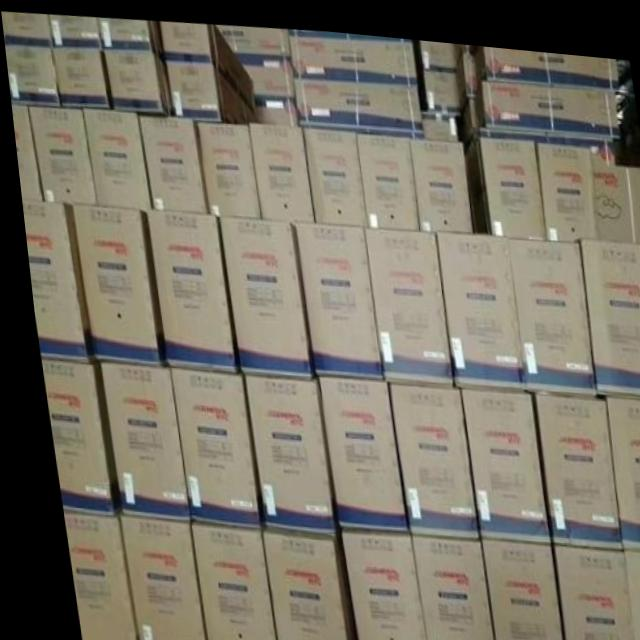box: (142, 206, 228, 369), (501, 225, 589, 384), (162, 363, 248, 525), (381, 375, 469, 532), (237, 368, 322, 530), (216, 212, 303, 370), (71, 204, 157, 363), (451, 380, 539, 535), (91, 362, 178, 518), (311, 371, 397, 524), (361, 220, 445, 376), (431, 223, 516, 377), (528, 385, 612, 540), (291, 217, 374, 372), (17, 199, 87, 363), (34, 358, 102, 515), (251, 523, 341, 640), (109, 514, 191, 640), (179, 520, 262, 640), (577, 227, 640, 384), (329, 525, 413, 640), (398, 529, 481, 640), (51, 512, 122, 640), (469, 529, 550, 640), (462, 117, 542, 229), (540, 535, 620, 640), (159, 19, 253, 108), (292, 72, 423, 130), (481, 71, 618, 126), (136, 112, 205, 210), (82, 106, 147, 208), (598, 384, 640, 540), (534, 121, 593, 230), (247, 118, 311, 218), (26, 106, 92, 202), (299, 122, 362, 220), (353, 126, 416, 222), (195, 118, 256, 214), (288, 30, 415, 76), (162, 58, 254, 118), (408, 130, 468, 222), (484, 37, 620, 74), (102, 47, 169, 111), (590, 153, 640, 231), (51, 45, 106, 105), (4, 45, 57, 103), (612, 540, 640, 640), (9, 103, 37, 200), (96, 17, 163, 57), (236, 50, 293, 93), (217, 20, 291, 52), (1, 11, 52, 44), (49, 15, 100, 47), (423, 62, 460, 106), (253, 89, 296, 118), (420, 32, 457, 64), (420, 101, 455, 133)
